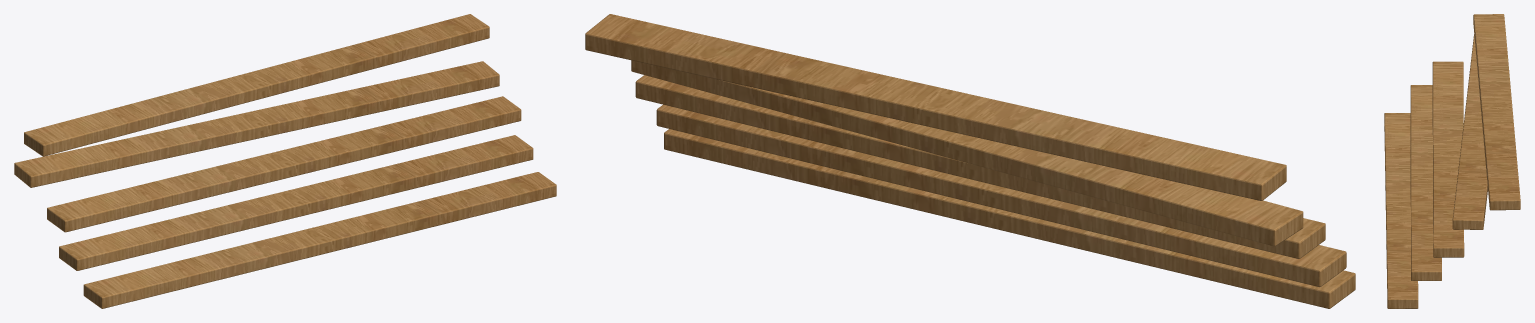
Rendered from EST-FOR-004_anim.glb.
3 renders of one model, left to right at view 1: azimuth 30°, elevation 25°; view 2: azimuth 150°, elevation 25°; view 3: azimuth 270°, elevation 25°, orthographic. The views are drawn at different scales.
Visible parts, largest first — view 1: EST-FOR-004_anim3, EST-FOR-004_anim1, EST-FOR-004_anim2, EST-FOR-004_anim0, EST-FOR-004_anim4; view 2: EST-FOR-004_anim4, EST-FOR-004_anim3, EST-FOR-004_anim1, EST-FOR-004_anim0, EST-FOR-004_anim2; view 3: EST-FOR-004_anim4, EST-FOR-004_anim2, EST-FOR-004_anim0, EST-FOR-004_anim1, EST-FOR-004_anim3.
Boxes of the visible parts, box(x1,y1,x2,y2) form: EST-FOR-004_anim3: box(14, 61, 499, 187); EST-FOR-004_anim1: box(59, 135, 533, 270); EST-FOR-004_anim2: box(47, 96, 521, 232); EST-FOR-004_anim0: box(83, 172, 556, 308); EST-FOR-004_anim4: box(24, 14, 489, 156); EST-FOR-004_anim4: box(585, 14, 1286, 200); EST-FOR-004_anim3: box(631, 60, 1303, 246); EST-FOR-004_anim1: box(656, 104, 1346, 287); EST-FOR-004_anim0: box(664, 129, 1355, 308); EST-FOR-004_anim2: box(635, 75, 1325, 258); EST-FOR-004_anim4: box(1473, 14, 1520, 210); EST-FOR-004_anim2: box(1432, 61, 1464, 257); EST-FOR-004_anim0: box(1384, 113, 1418, 308); EST-FOR-004_anim1: box(1410, 85, 1441, 280); EST-FOR-004_anim3: box(1452, 34, 1487, 229).
Bounding box in the file's own units: 1.04 × 0.265 × 0.3085.
Materials: 1 (1 with a texture image).
